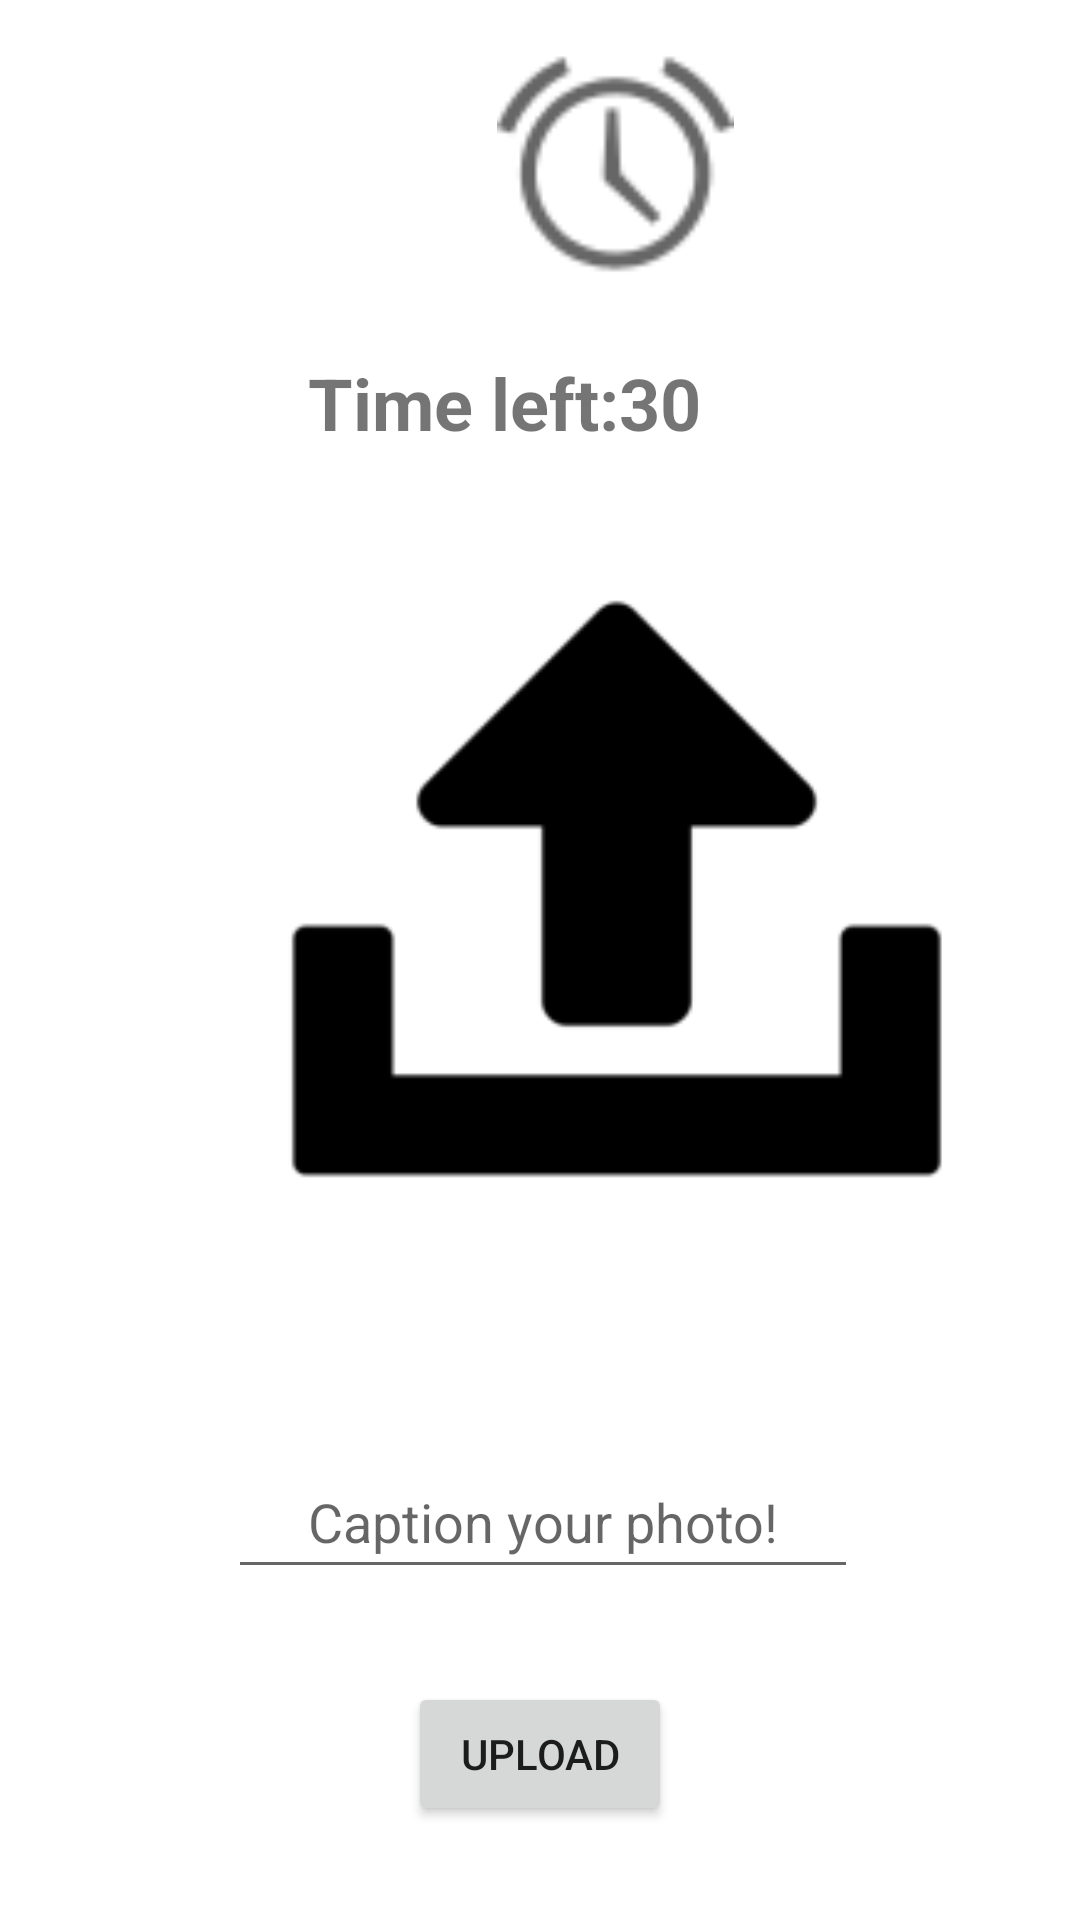

Locate icon controls on the screen. Image size 1080 × 1920, boxes as (x1, y1, x2, y2).
Clock image: (497, 57, 734, 271)
